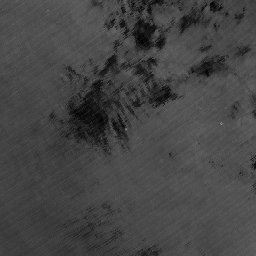Target: (122, 126, 129, 132)
